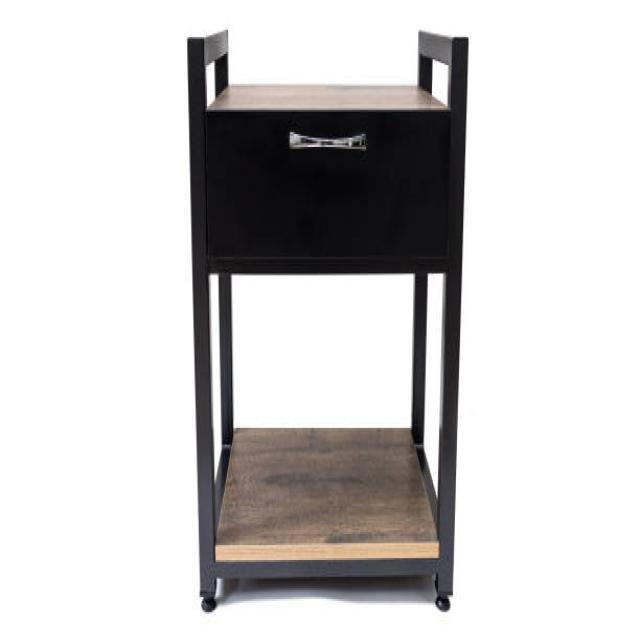table: (186, 26, 469, 612)
